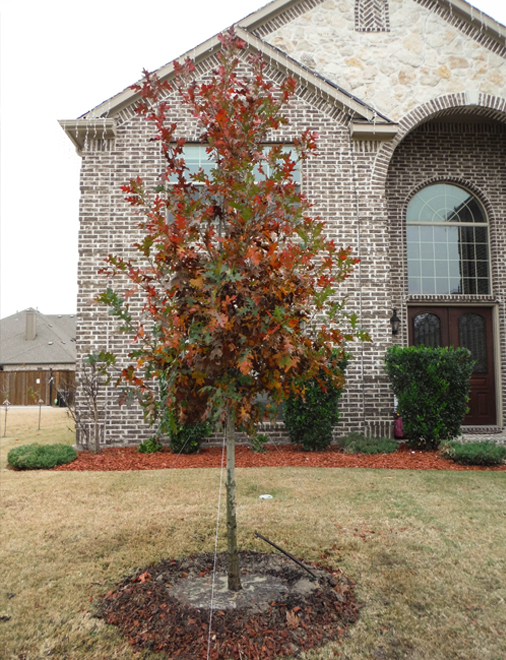bush: (381, 339, 472, 452)
tree: (103, 30, 355, 594)
